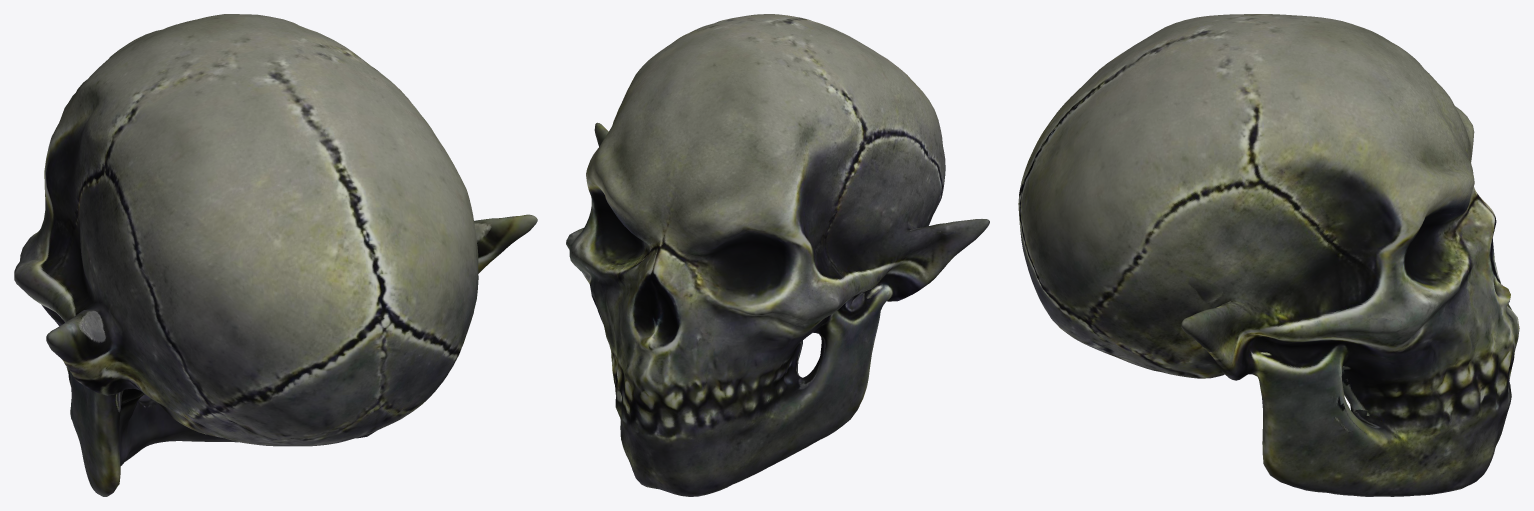
File: 8a787c4384b6_A_goblins_skull_min.fbx
The picture shows the model from 3 angles, left to right: view 1: azimuth 30°, elevation 25°; view 2: azimuth 150°, elevation 25°; view 3: azimuth 270°, elevation 25°; orthographic projection. The views are drawn at different scales.
Visible parts, largest first — view 1: mesh; view 2: mesh; view 3: mesh.
Boxes of the visible parts, x1,y1,x2,y2 form: mesh: (14,14,537,496); mesh: (566,14,989,496); mesh: (1018,14,1519,496).
Size of the model in its own units: 98.97 by 93.11 by 95.58.
